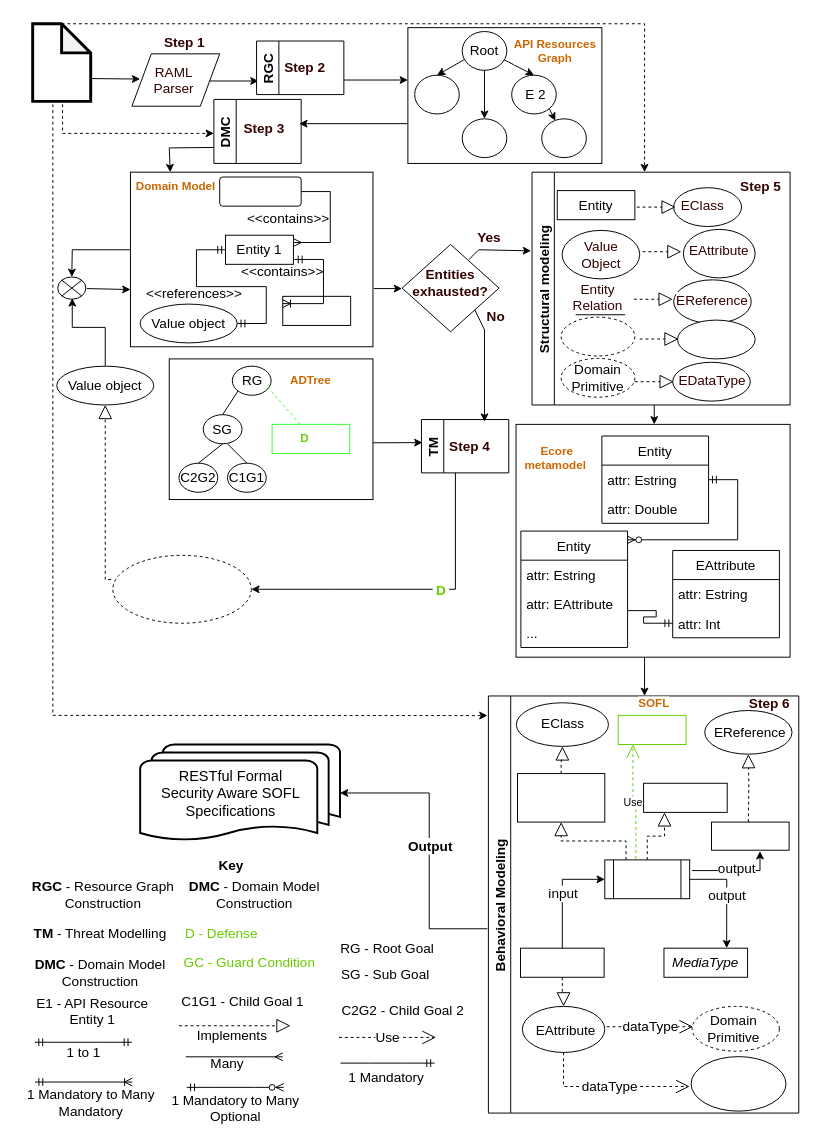
This 816x1142 diagram has some shape labels left out. The shapes that lost their labels are listed below. From the top down, each one's centre as x and y in pixels, then its label:
(x=61, y=62): RAML
(x=436, y=94): E1
(x=484, y=138): E 3
(x=563, y=138): E...n
(x=260, y=191): Aggregate root
(x=316, y=310): Entity 2
(x=597, y=336): HTTP verb
(x=716, y=339): EOperation
(x=181, y=588): D = Domain primitive as security invariant
(x=651, y=729): GC
(x=561, y=797): ResourceType
(x=685, y=797): MethodType
(x=750, y=835): RelationType
(x=647, y=879): SOFL Process
(x=562, y=962): Parameter
(x=738, y=1083): Primitive Data Type
